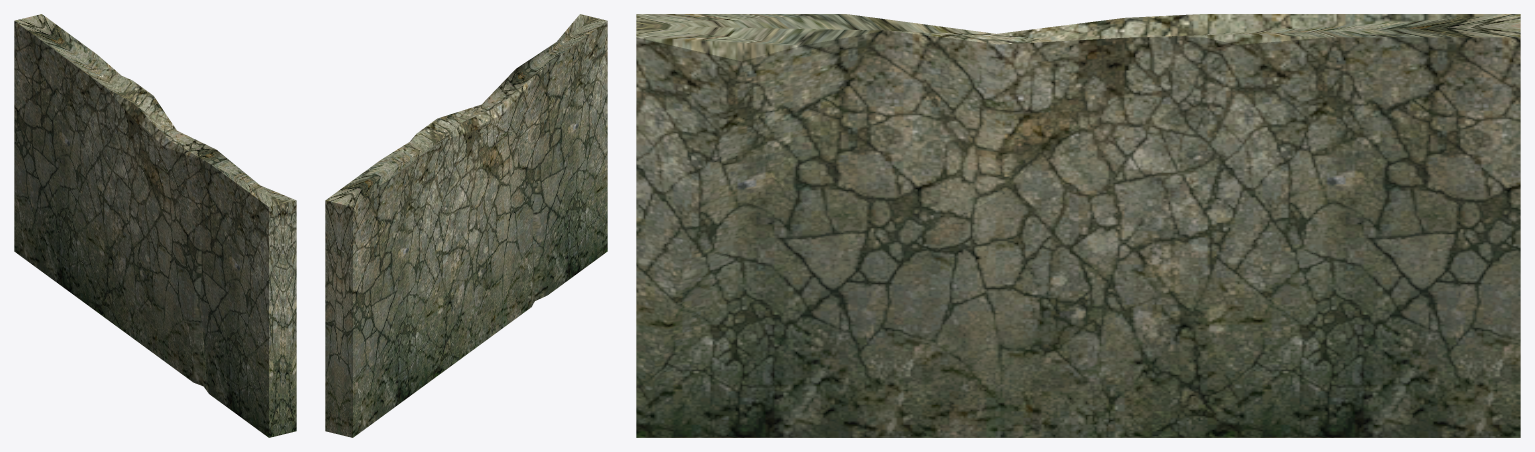
The model's file is thm_nboo_gungan_damaged_wall_lg_s01_l1.fbx.
The picture shows the model from 3 angles, left to right: view 1: azimuth 30°, elevation 25°; view 2: azimuth 150°, elevation 25°; view 3: azimuth 270°, elevation 25°; orthographic projection. The views are drawn at different scales.
Visible parts, largest first — view 1: mesh_node; view 2: mesh_node; view 3: mesh_node.
Part boxes in pixels (box(x1,y1,x2,y2)): mesh_node: box(14, 14, 296, 437); mesh_node: box(325, 14, 607, 437); mesh_node: box(636, 14, 1520, 437).
Size of the model in its own units: 0.5 by 4 by 8.
